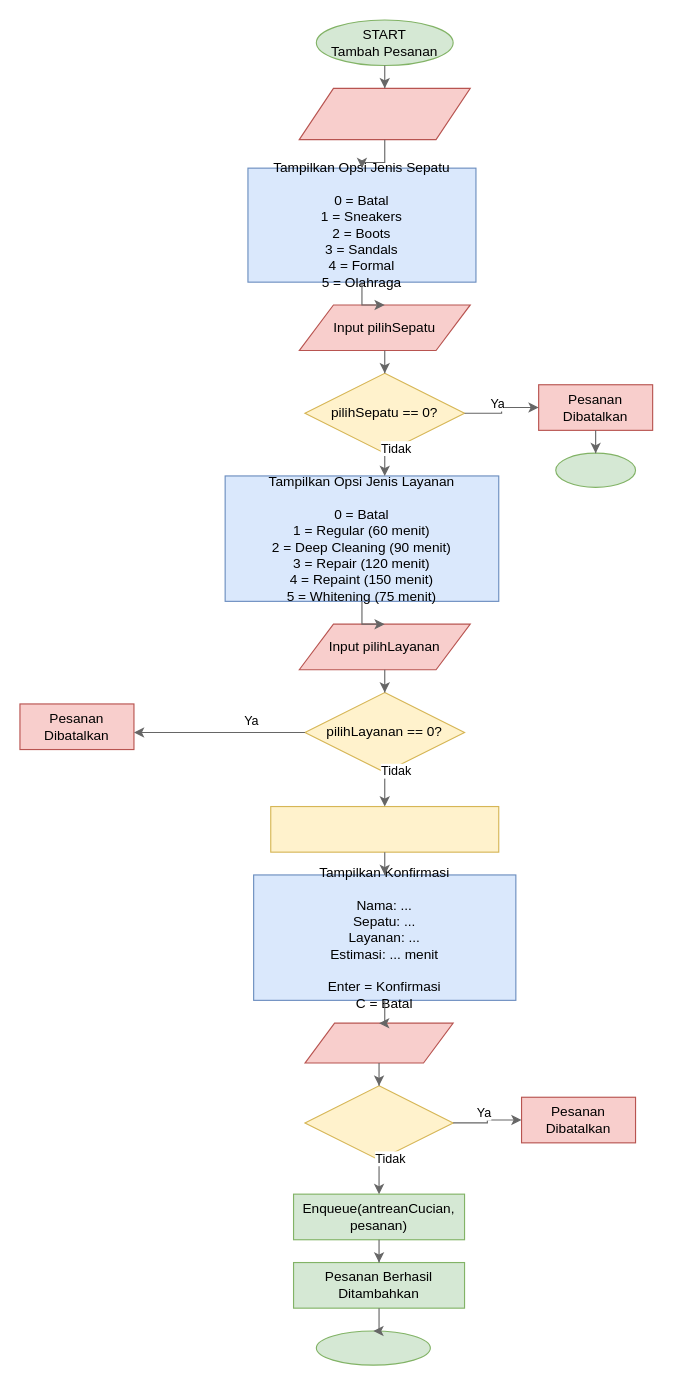
This 673x1385 diagram has some shape labels left out. The shapes that lost their labels are listed below. From the top down, each one's box as (x1, y1, x2, y2) in pixels, then its label:
(298, 87, 470, 140): Input namaPelanggan
(555, 452, 636, 487): RETURN
(270, 805, 499, 852): durasi = DurasiStandar(layanan) estimasi = hitungTotal + durasi
(304, 1022, 453, 1063): Input konfirmasi
(304, 1085, 453, 1160): konfirmasi == 'C'?
(315, 1330, 430, 1365): END
